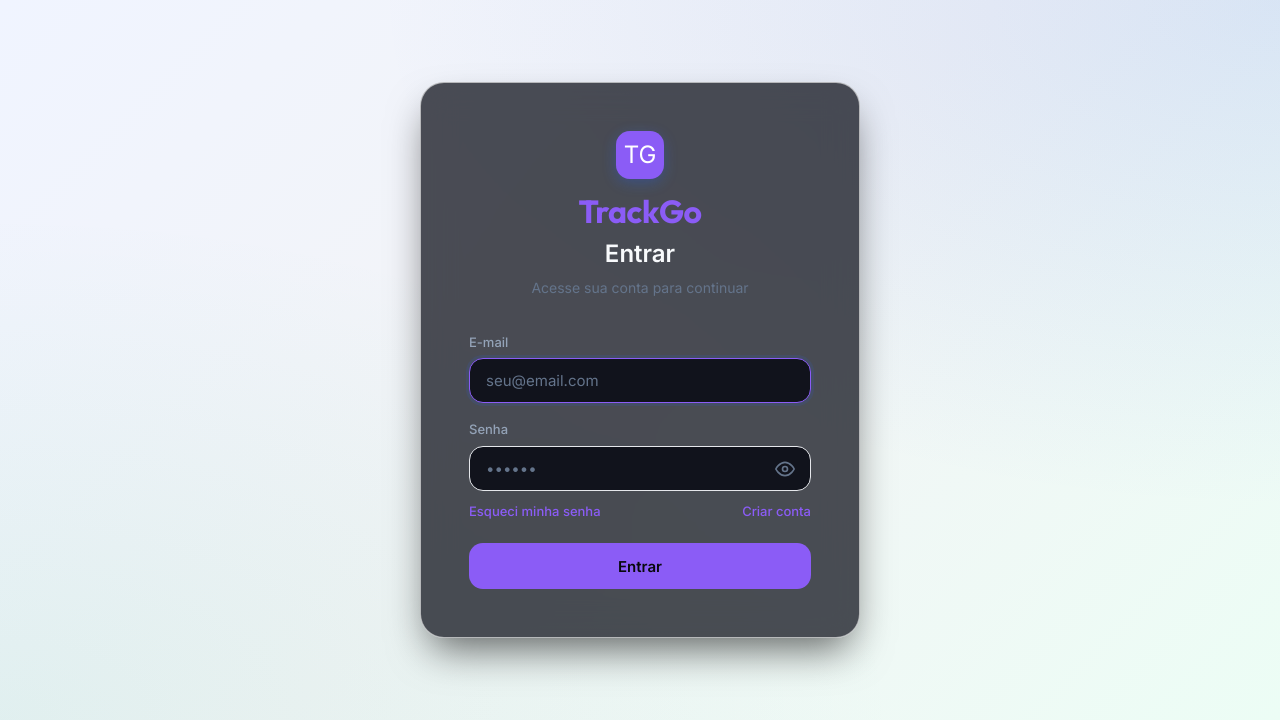
TrackGo - Fluxos Operacionais E2E (Login e Rotas) › Deve validar os campos obrigatórios e o formato do e-mail
# Tentar submeter sem preencher nada
Click the submit button: click(640, 566) [469, 543, 811, 589]
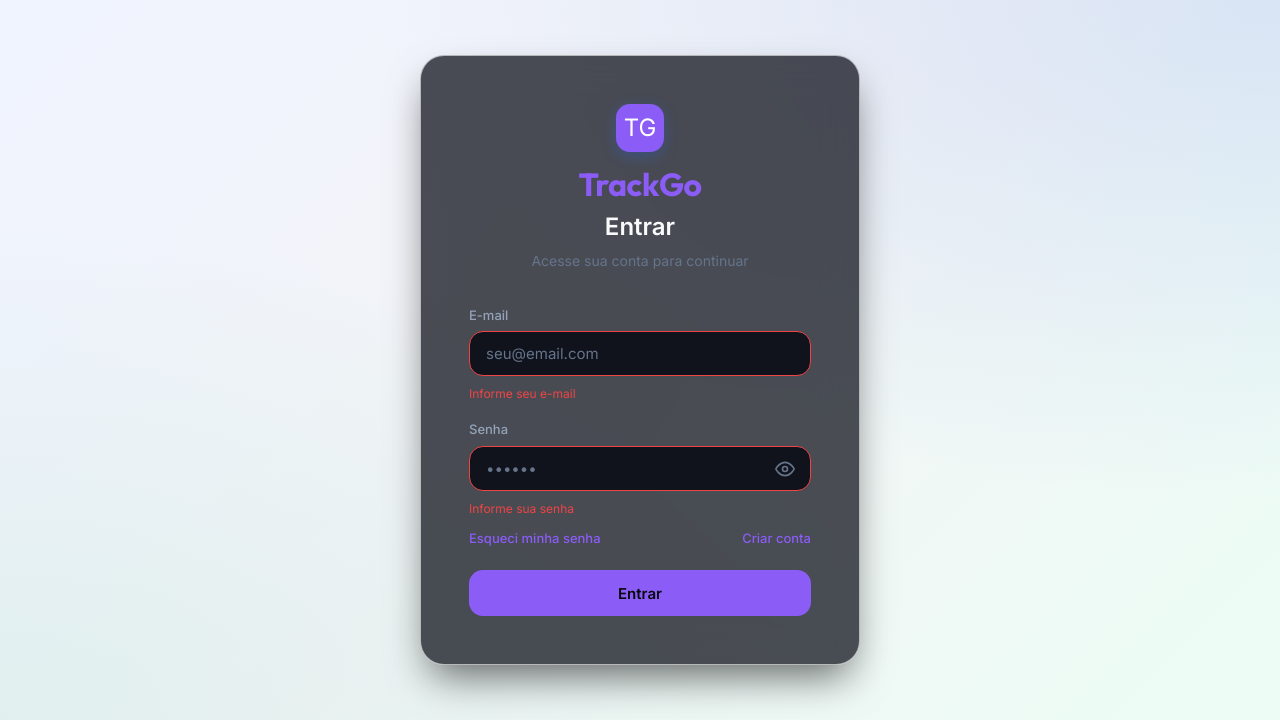
Check: the text "Informe seu e-mail" is shown, box [469, 386, 576, 401]
Check: the text "Informe sua senha" is shown, box [469, 501, 574, 516]
# Digitar e-mail em formato inválido
In the field labelled "E-mail": (640, 354) [469, 331, 811, 376], type "email-invalido"
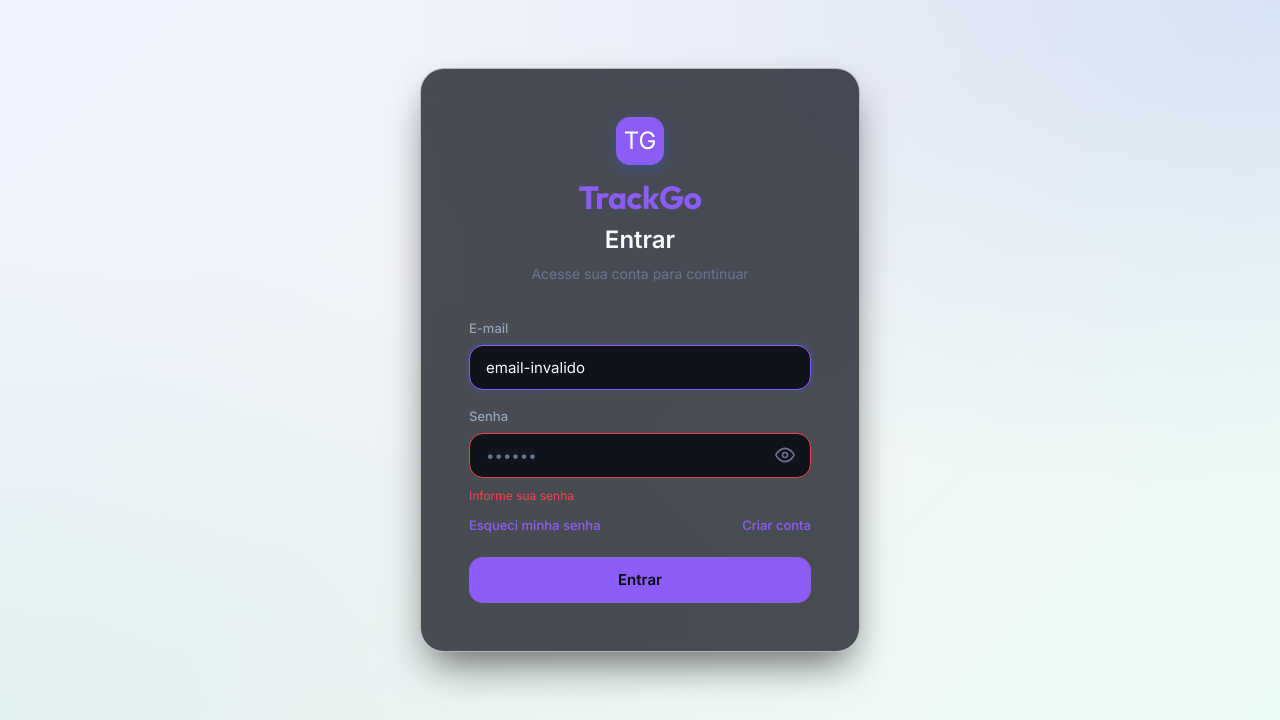
In the password field labelled "Senha": (640, 456) [469, 433, 811, 478], type "123456"
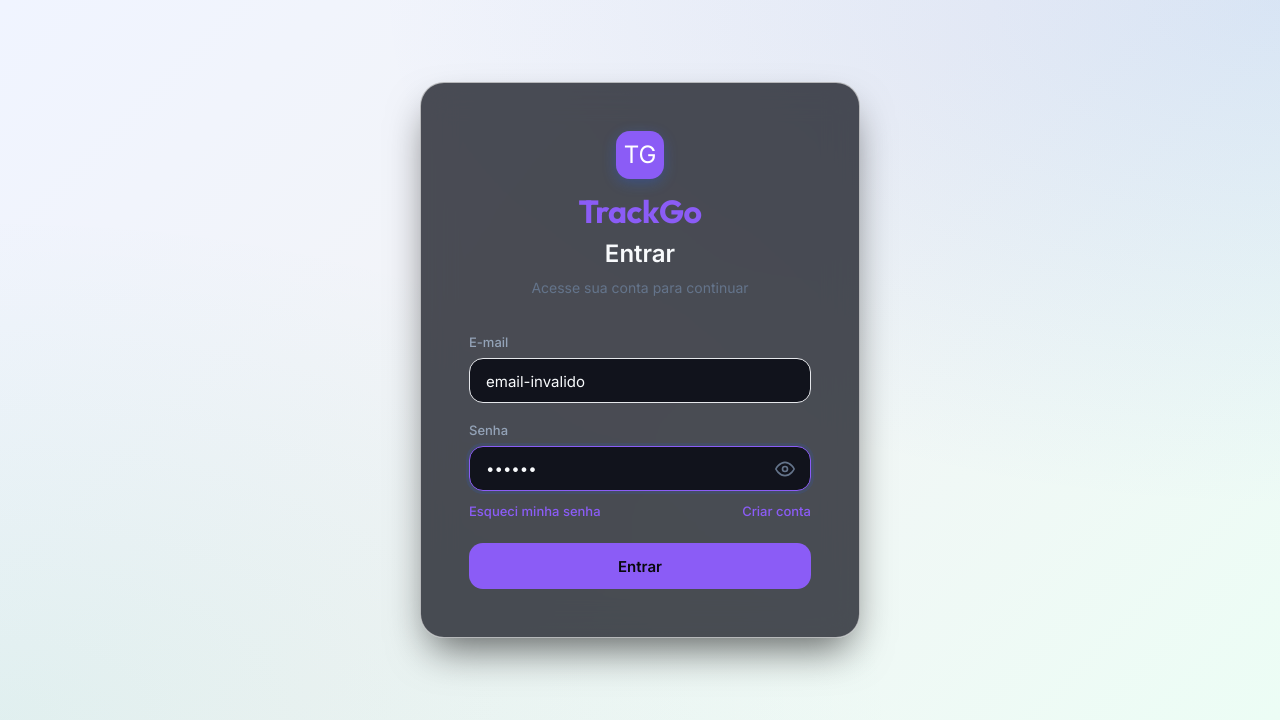
Click the submit button: click(640, 566) [469, 543, 811, 589]
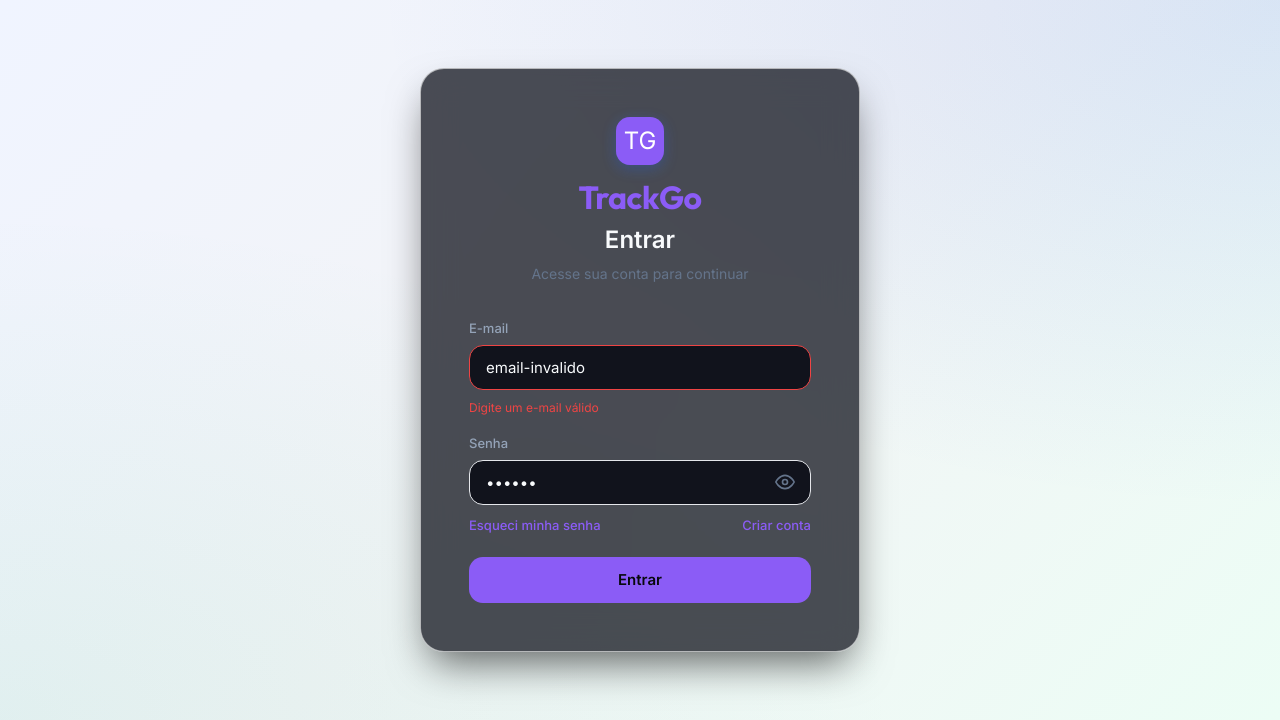
Check: the text "Digite um e-mail válido" is shown, box [469, 400, 599, 415]
